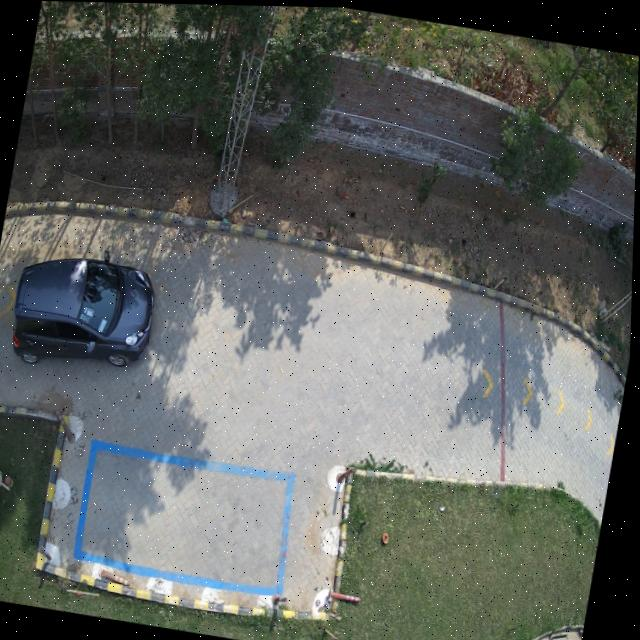car: (12, 258, 158, 368)
